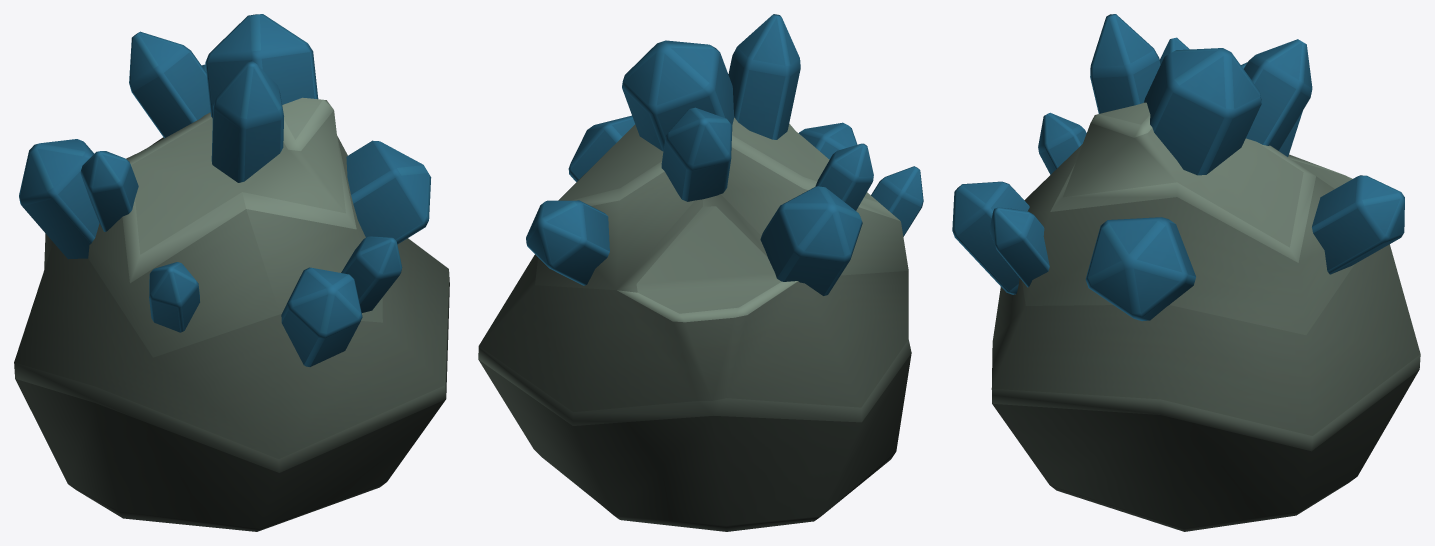
The picture shows the model from 3 angles, left to right: view 1: azimuth 30°, elevation 25°; view 2: azimuth 150°, elevation 25°; view 3: azimuth 270°, elevation 25°; orthographic projection. The views are drawn at different scales.
Parts seen in each view (by area): view 1: ore_christal_saphire_L_cube_mat_0.003; view 2: ore_christal_saphire_L_cube_mat_0.003; view 3: ore_christal_saphire_L_cube_mat_0.003.
Part boxes in pixels (box(x1,y1,x2,y2)): ore_christal_saphire_L_cube_mat_0.003: box(14, 14, 449, 531); ore_christal_saphire_L_cube_mat_0.003: box(478, 14, 923, 531); ore_christal_saphire_L_cube_mat_0.003: box(952, 14, 1420, 531).
Size of the model in its own units: 191 by 234 by 202.
1 material, 1 textured.
